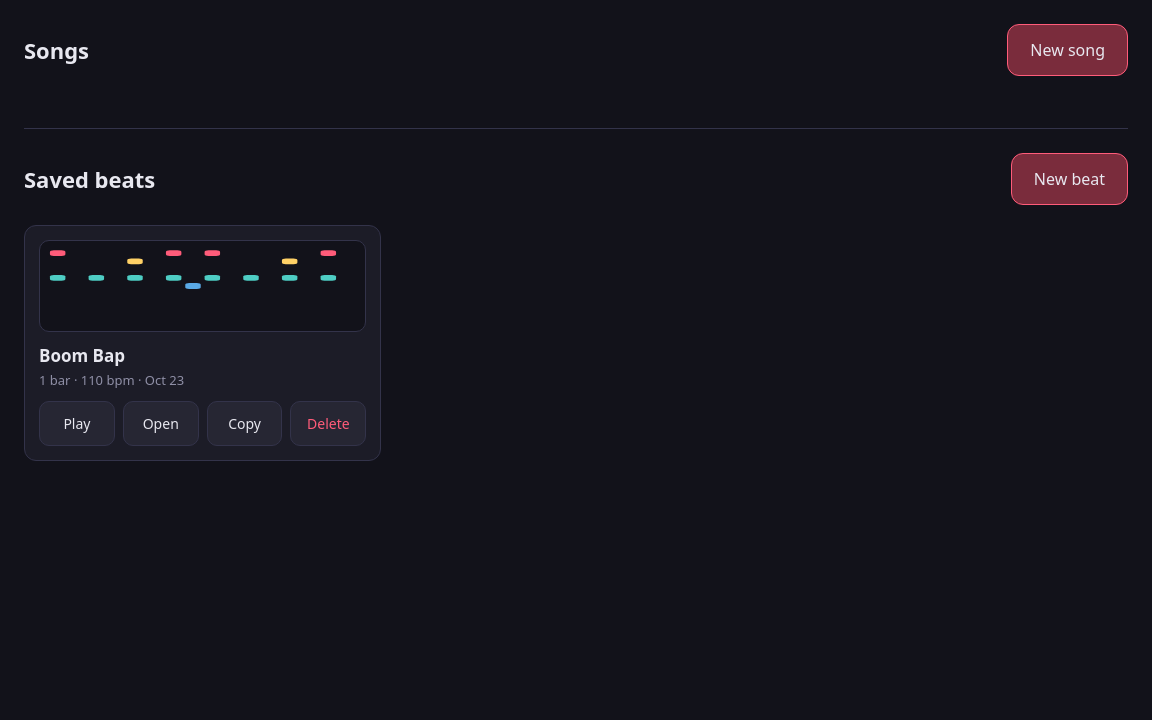
Scenario: a saved beat › duplicates
Click the button with aria-label "Duplicate Boom Bap": [245, 424] box [207, 401, 282, 446]
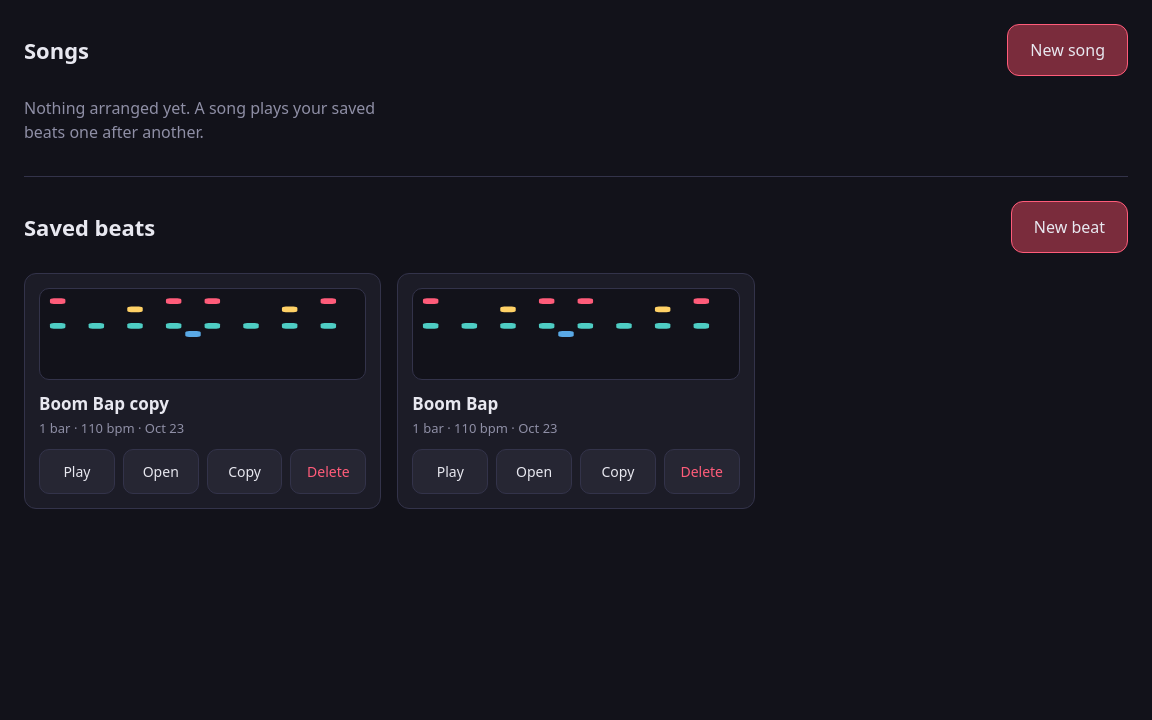
Now the heading "Boom Bap copy" is shown, box [39, 392, 169, 415]
